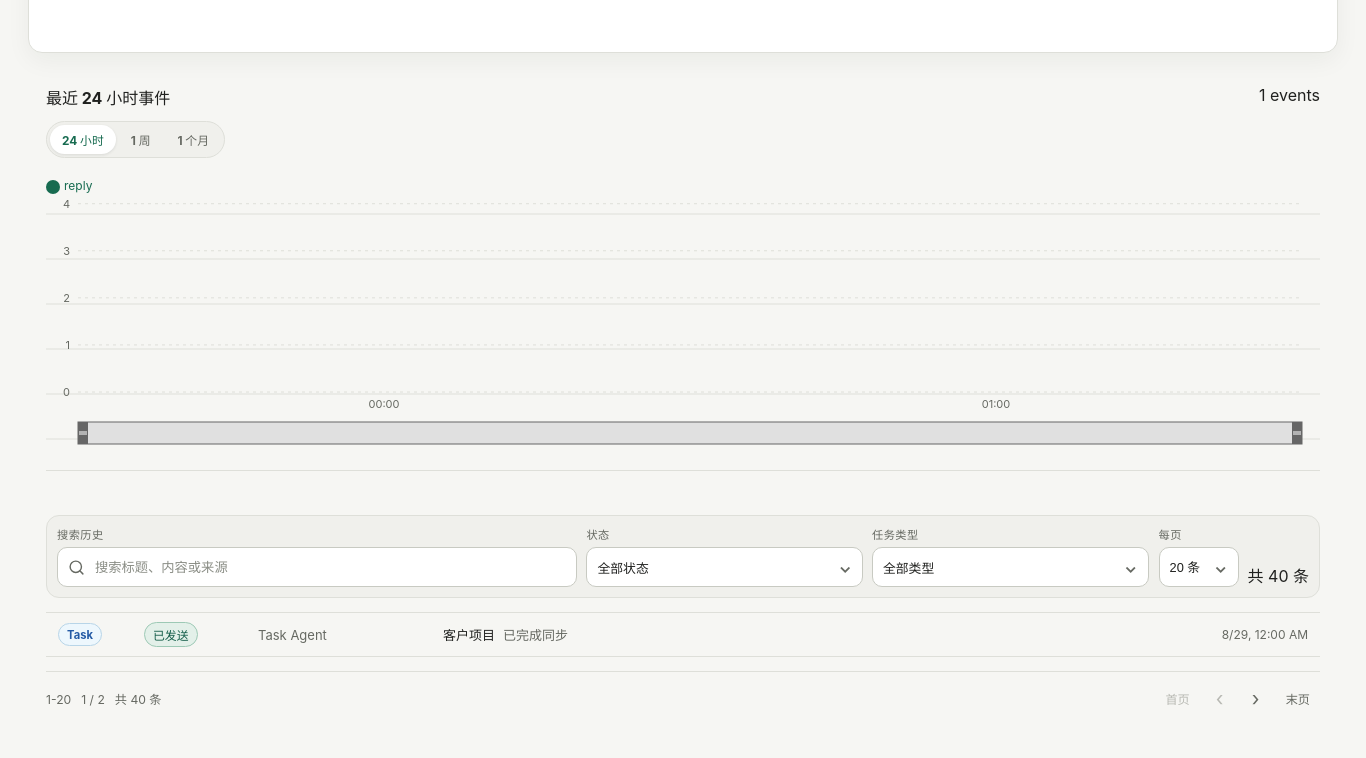
HistoryPage › names statuses in Chinese and filters by several at once
(page scrolled)
Click the button with aria-label "状态：全部状态" at (715, 567), box [598,548,832,586]
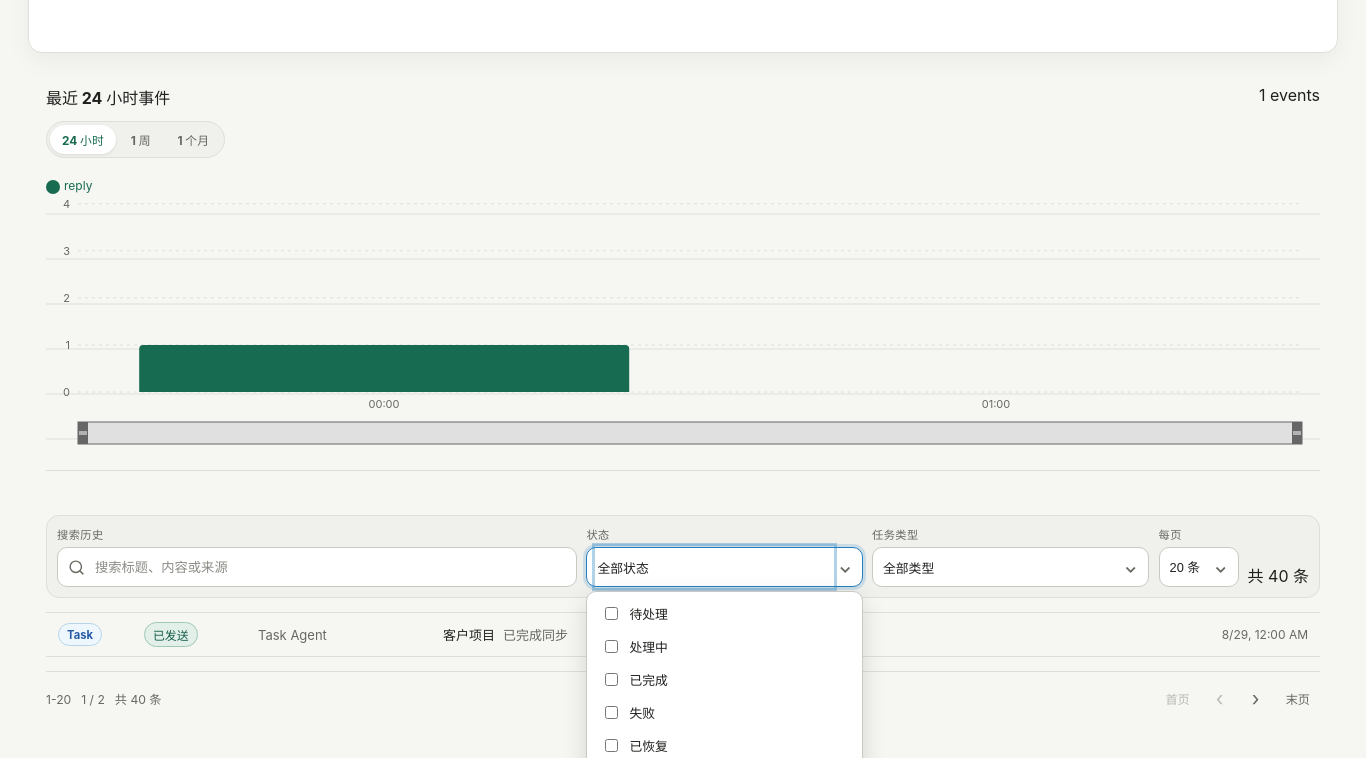
Click the checkbox labelled "失败" at (612, 712), box [606,706,618,719]
(page scrolled)
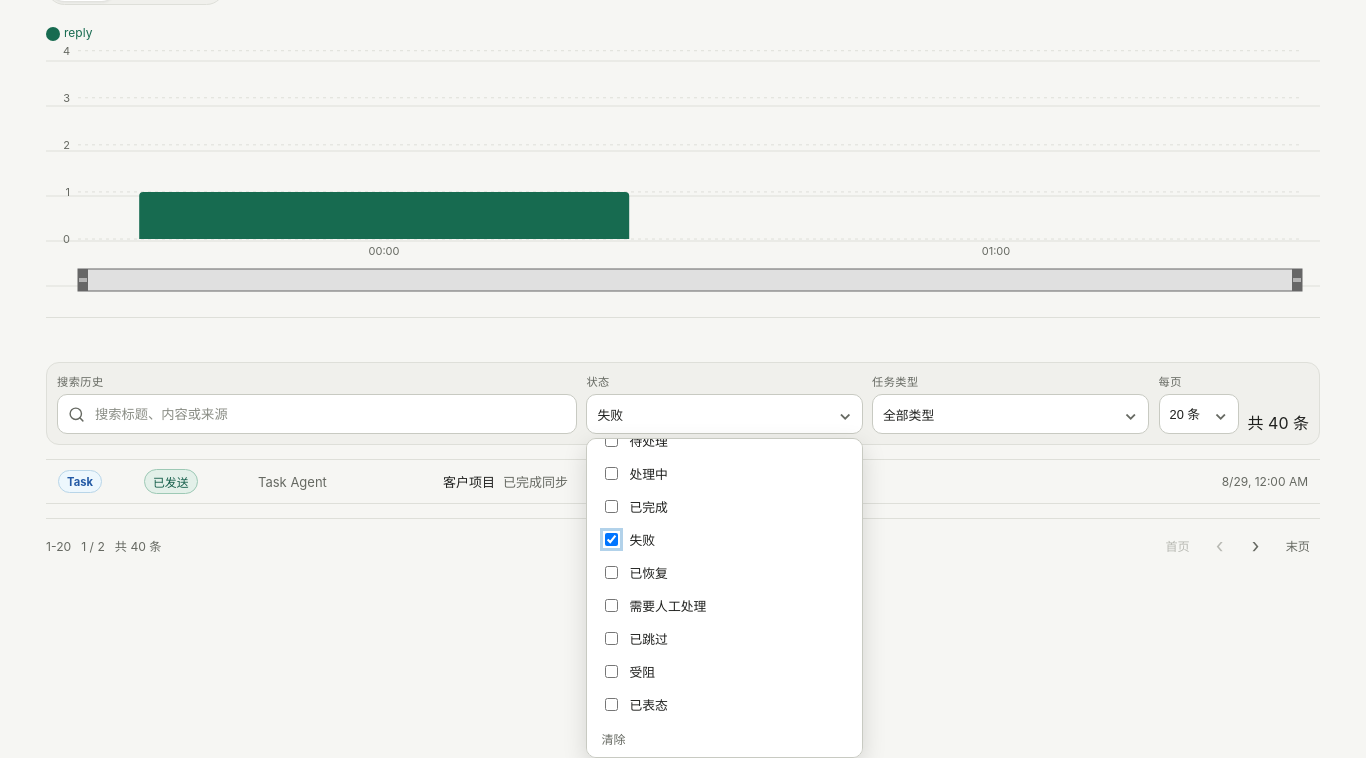
Click the checkbox labelled "需要人工处理" at (612, 606), box [606,599,618,612]
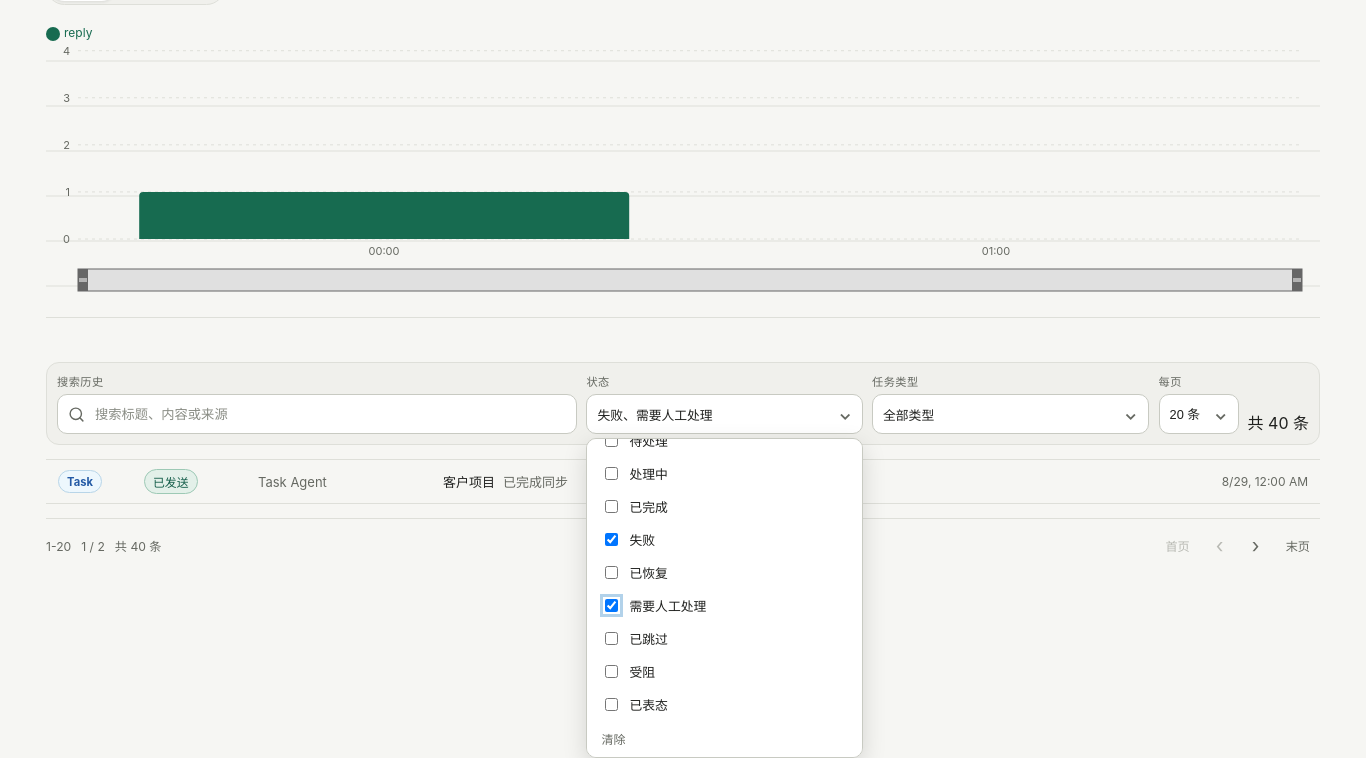
Now the button with aria-label "状态：失败、需要人工处理" is shown, box [598,395,832,433]
